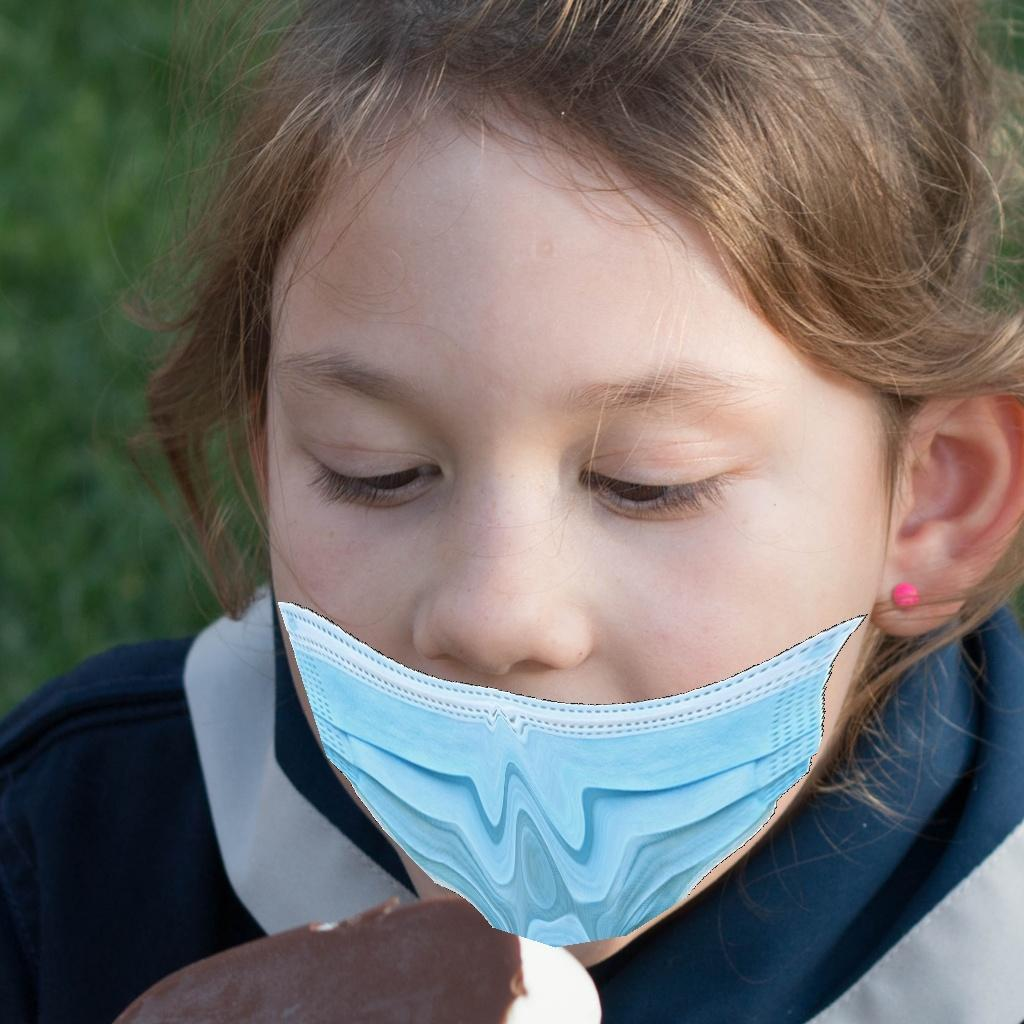Máscara Incorreta: (253, 233, 810, 912)
